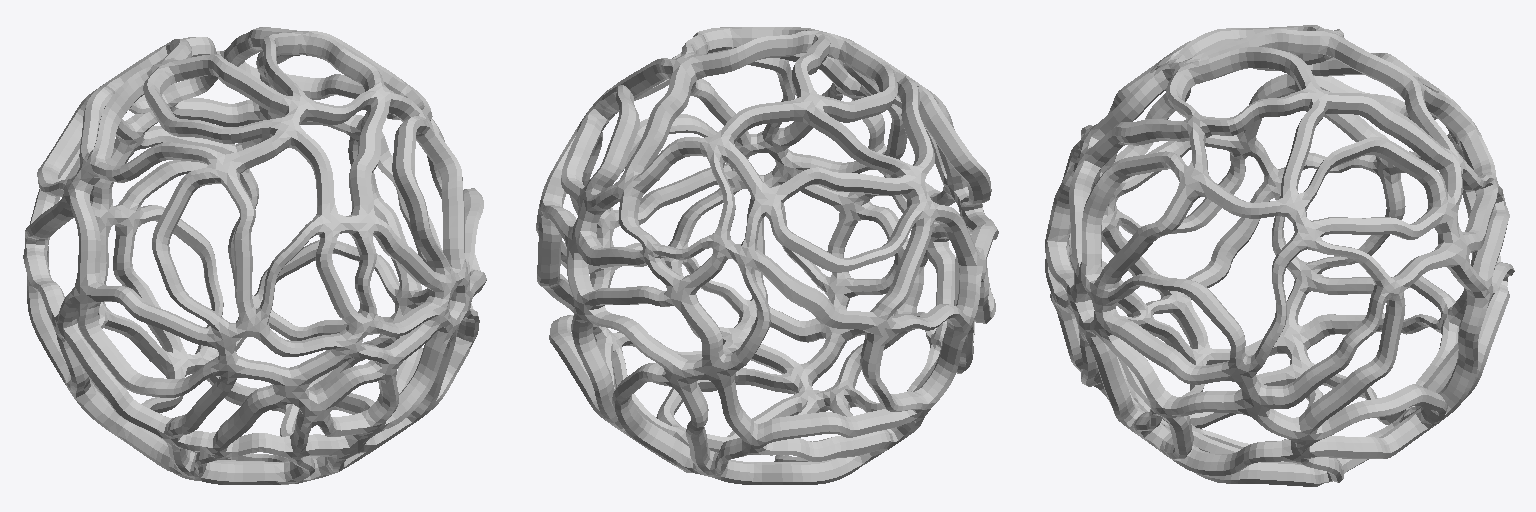
The model's file is MMdoodlesample1.obj.
3 views of the same model, side by side, from view 1: azimuth 30°, elevation 25°; view 2: azimuth 150°, elevation 25°; view 3: azimuth 270°, elevation 25° (orthographic).
Size of the model in its own units: 2.7 by 2.7 by 2.7.